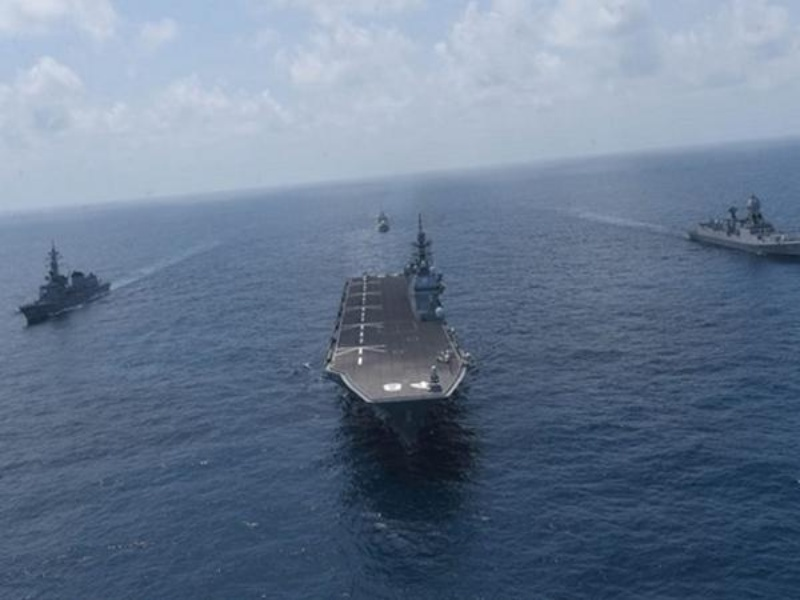carrier: (334, 263, 471, 456)
cruise: (19, 241, 109, 326), (689, 194, 798, 256), (373, 202, 394, 236)
